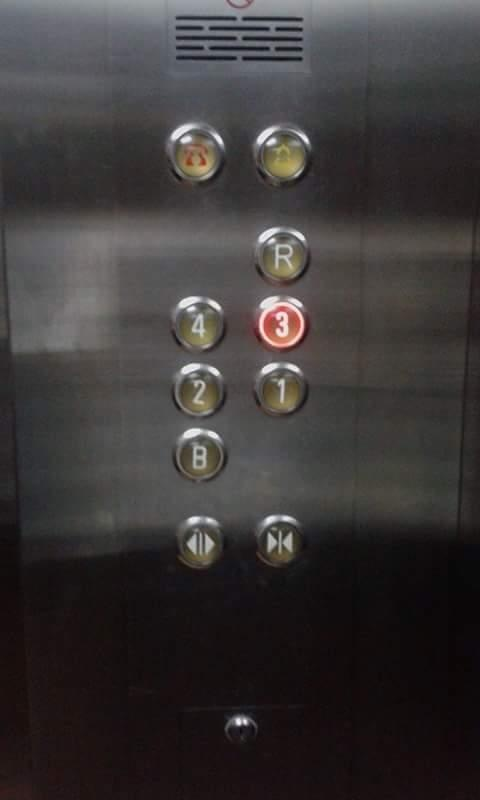1: (247, 355, 314, 422)
2: (165, 356, 232, 423)
3: (248, 288, 315, 355)
4: (164, 290, 231, 357)
B: (165, 421, 232, 488)
R: (248, 221, 315, 288)
alarm: (245, 119, 317, 189)
call: (161, 118, 233, 188)
close: (247, 510, 308, 571)
keyhole: (211, 700, 272, 761)
open: (169, 511, 230, 572)
